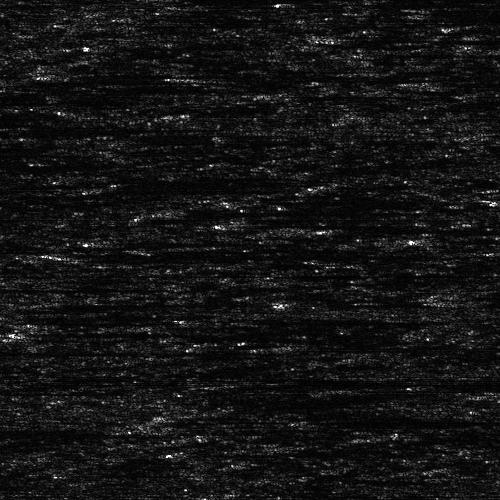rock: (0, 327, 99, 340), (13, 248, 106, 261), (62, 41, 155, 50), (251, 339, 324, 350), (62, 238, 145, 247), (0, 315, 48, 324), (71, 184, 124, 191), (192, 381, 265, 386), (174, 75, 227, 80)
shadow: (60, 248, 398, 261), (6, 327, 341, 340), (288, 339, 464, 350), (104, 238, 275, 247), (12, 315, 179, 324), (0, 284, 153, 293), (201, 75, 465, 80), (98, 184, 268, 191), (0, 143, 71, 158), (229, 381, 402, 386), (109, 41, 195, 50), (0, 428, 91, 435)
